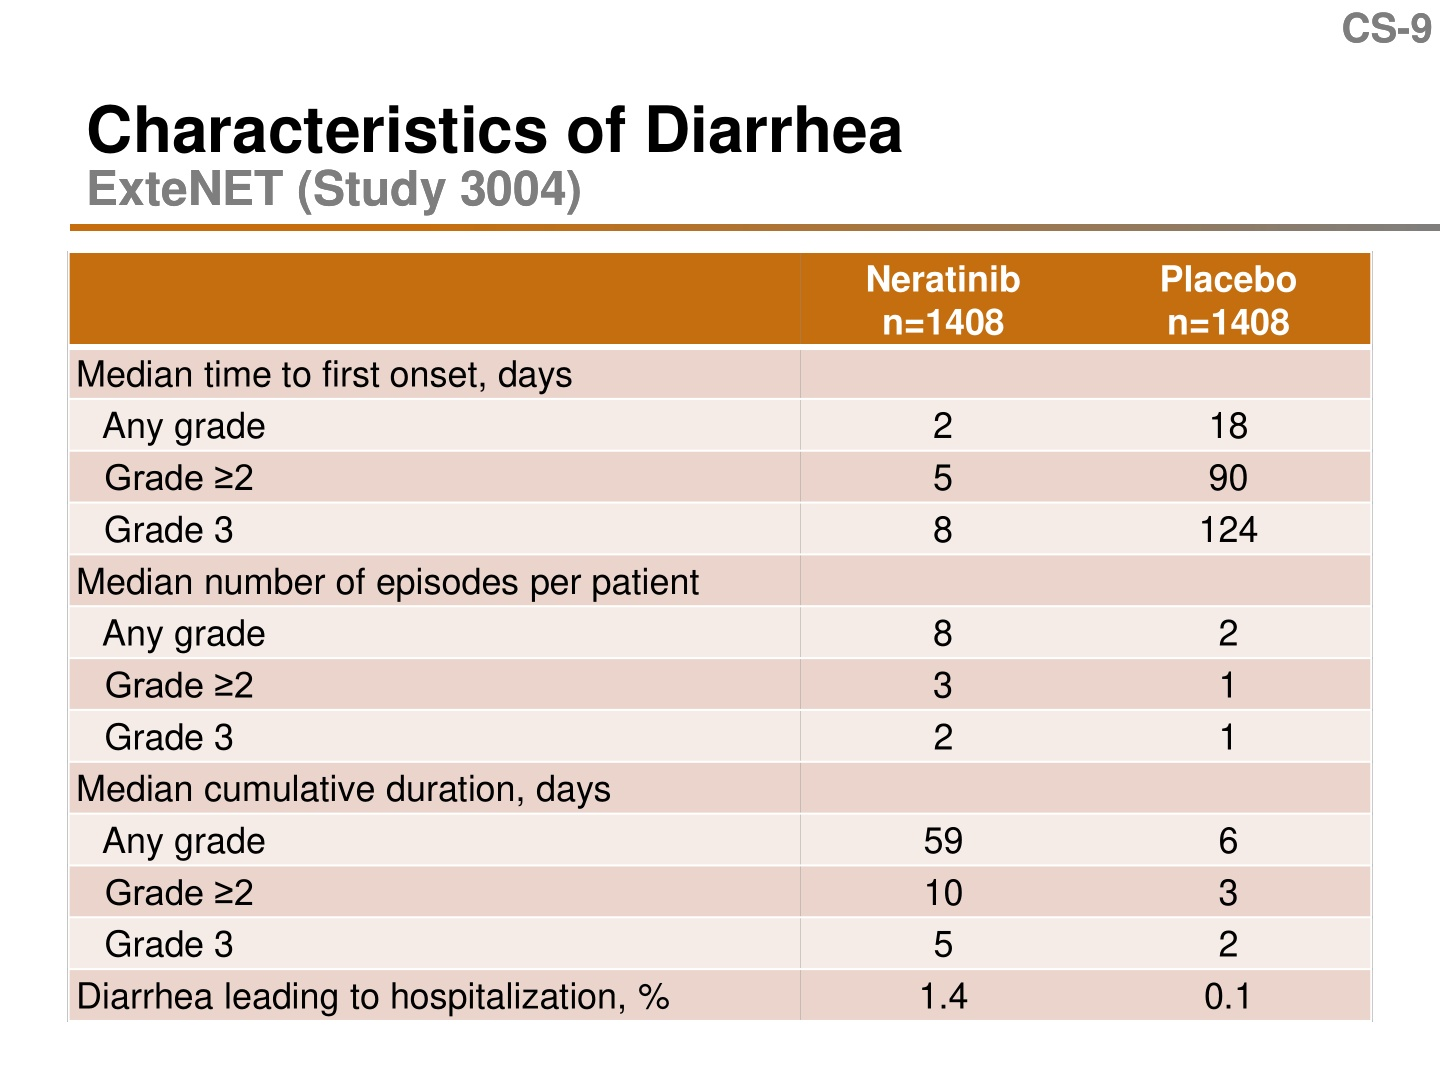partial_lined: (67, 250, 1373, 1028)
